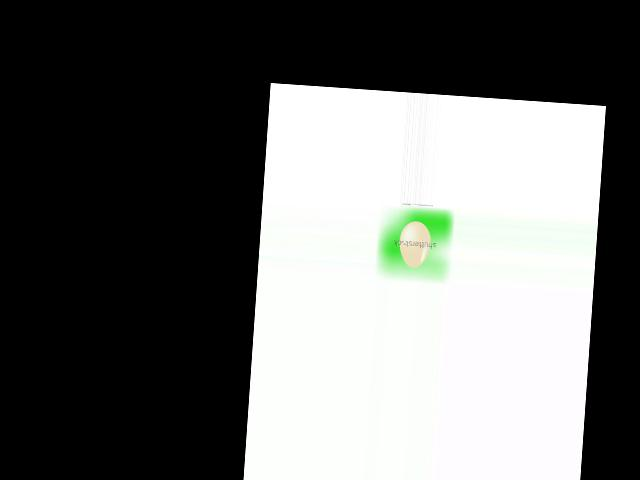egg: (397, 220, 431, 268)
